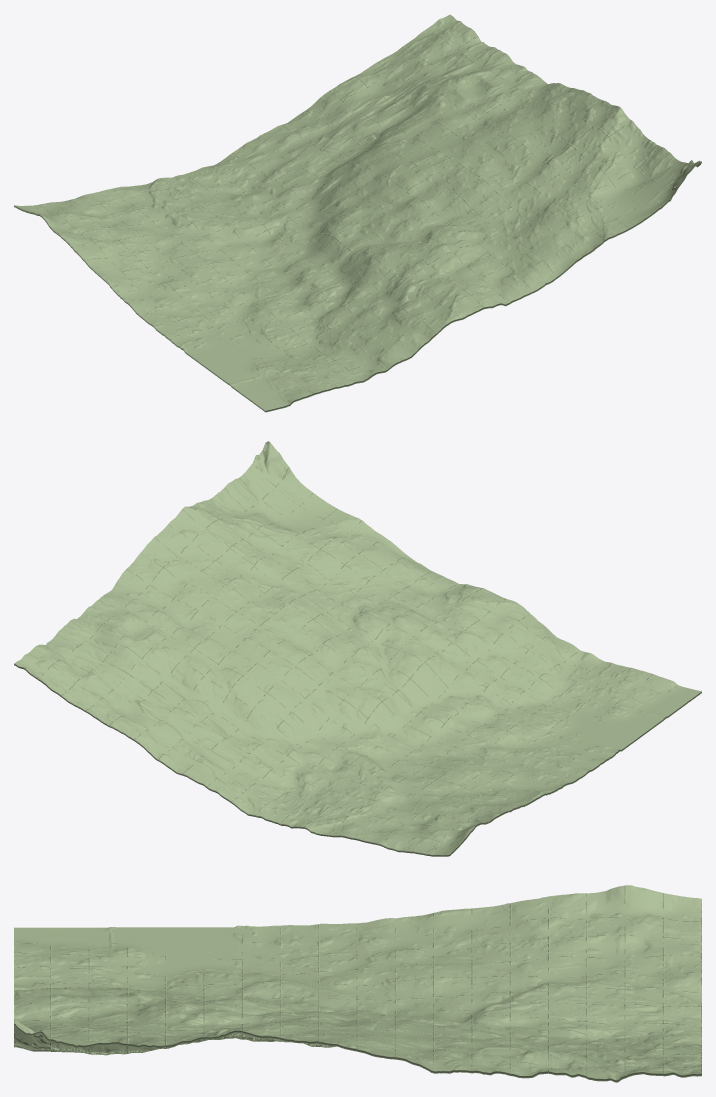
File: terrain-v4-mobile.glb
3 views of the same model, one above another, from view 1: azimuth 30°, elevation 25°; view 2: azimuth 150°, elevation 25°; view 3: azimuth 270°, elevation 25° (orthographic). The views are drawn at different scales.
Visible parts, largest first — view 1: Terrain / far 32m; view 2: Terrain / far 32m; view 3: Terrain / far 32m, Terrain / 0 1 / LOD 0, Terrain / 0 3 / LOD 0, Terrain / 0 2 / LOD 0, Terrain / 6 1 / LOD 0, Terrain / 2 1 / LOD 0, Terrain / 9 16 / LOD 0, Terrain / 1 0 / LOD 0, Terrain / 1 1 / LOD 0, Terrain / 4 5 / LOD 0, Terrain / 2 4 / LOD 0, Terrain / 6 2 / LOD 0 (+65 smaller).
Boxes of the visible parts, <box> form: Terrain / far 32m: <box>14,14,697,410</box>; Terrain / far 32m: <box>14,444,701,855</box>; Terrain / far 32m: <box>14,886,701,1079</box>; Terrain / 0 1 / LOD 0: <box>625,885,663,918</box>; Terrain / 0 3 / LOD 0: <box>549,893,586,919</box>; Terrain / 0 2 / LOD 0: <box>587,885,625,918</box>; Terrain / 6 1 / LOD 0: <box>625,1004,663,1023</box>; Terrain / 2 1 / LOD 0: <box>625,935,663,958</box>; Terrain / 9 16 / LOD 0: <box>51,1001,89,1019</box>; Terrain / 1 0 / LOD 0: <box>663,919,701,941</box>; Terrain / 1 1 / LOD 0: <box>625,916,663,937</box>; Terrain / 4 5 / LOD 0: <box>472,976,510,994</box>; Terrain / 2 4 / LOD 0: <box>510,938,548,961</box>; Terrain / 6 2 / LOD 0: <box>587,1004,625,1024</box>.
Size of what is drawn, in the model's own units: 2300 by 736 by 2300.
